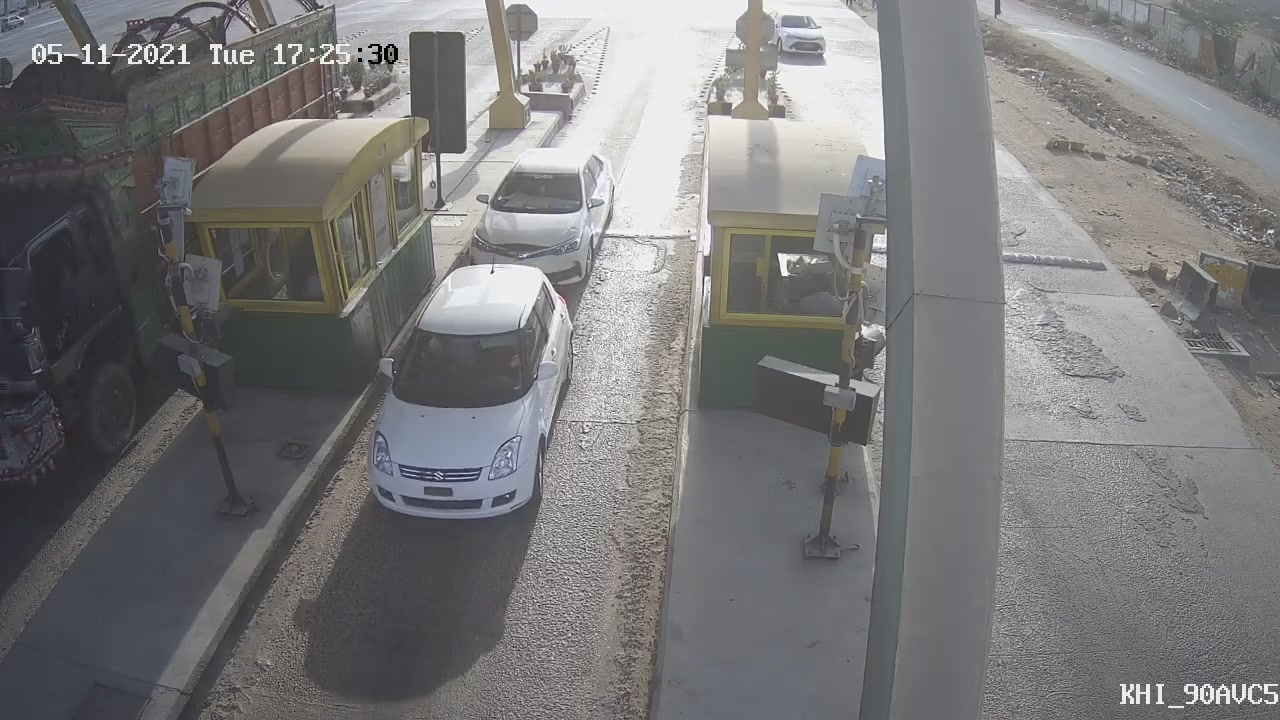F1: (334, 247, 603, 551), (453, 126, 626, 313)
